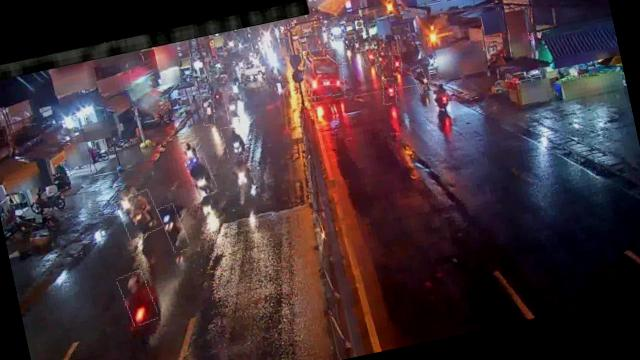Bike: (118, 270, 158, 328), (116, 190, 162, 240), (158, 202, 188, 253), (185, 155, 218, 198), (221, 122, 251, 159), (34, 190, 67, 213), (431, 80, 453, 112), (198, 94, 218, 126), (411, 63, 431, 94), (224, 91, 243, 120), (380, 78, 400, 105), (182, 138, 200, 166), (360, 46, 380, 68), (390, 54, 404, 76), (374, 52, 387, 72)
Bus: (298, 45, 350, 101)
